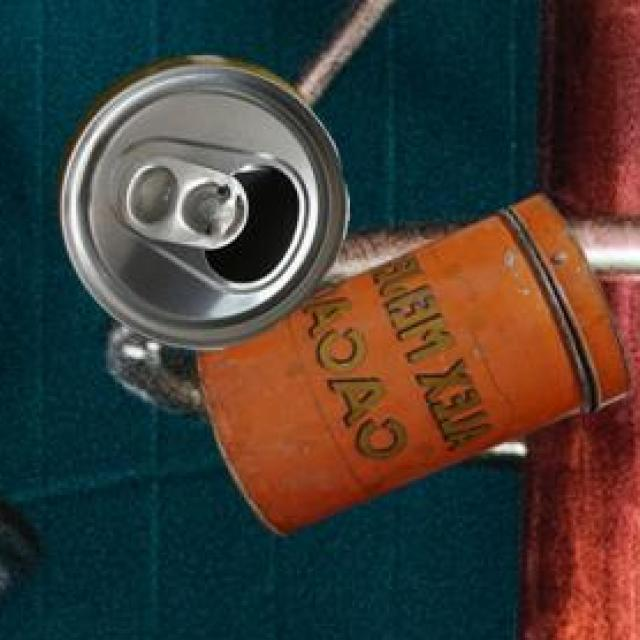logam: (192, 199, 625, 540), (54, 59, 346, 353)
